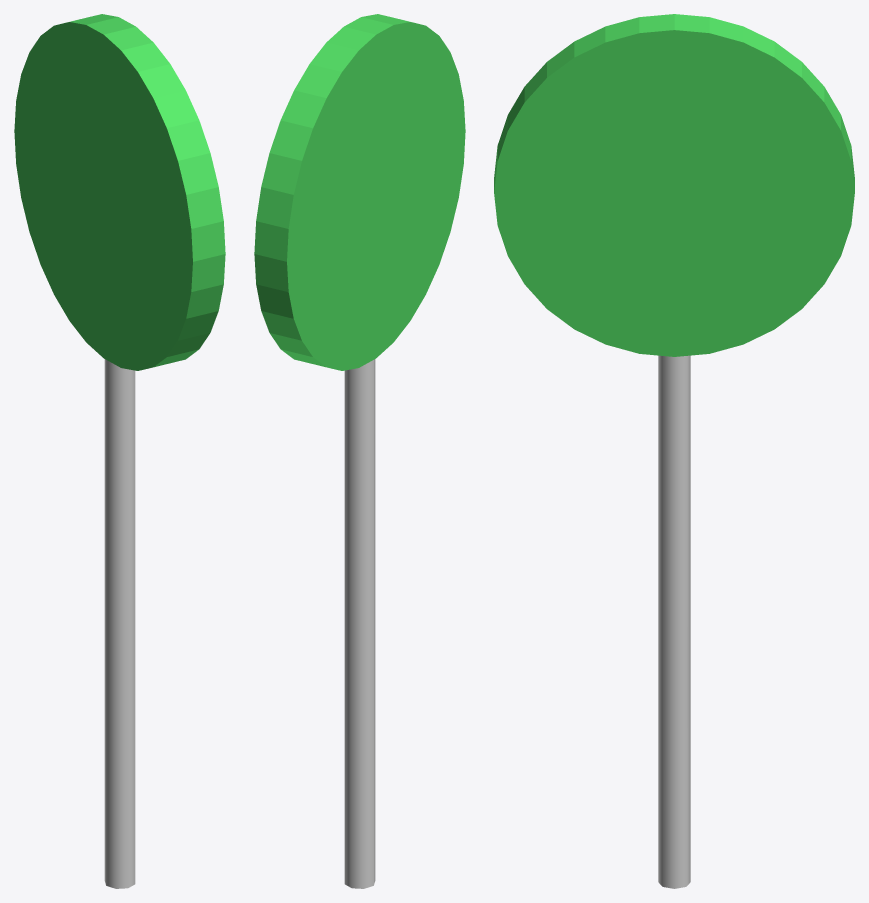
The model's file is letrero 2.fbx.
3 renders of one model, left to right at view 1: azimuth 30°, elevation 25°; view 2: azimuth 150°, elevation 25°; view 3: azimuth 270°, elevation 25°, orthographic.
Visible parts, largest first — view 1: Cylinder, Cube.005; view 2: Cylinder, Cube.005; view 3: Cylinder, Cube.005.
Part boxes in pixels (x1=…): Cylinder: x1=14, y1=14, x2=225, y2=370; Cube.005: x1=104, y1=359, x2=135, y2=888; Cylinder: x1=254, y1=14, x2=465, y2=370; Cube.005: x1=344, y1=359, x2=375, y2=888; Cylinder: x1=494, y1=14, x2=854, y2=356; Cube.005: x1=658, y1=355, x2=690, y2=888.
Size of the model in its own units: 4 by 99.97 by 38.
